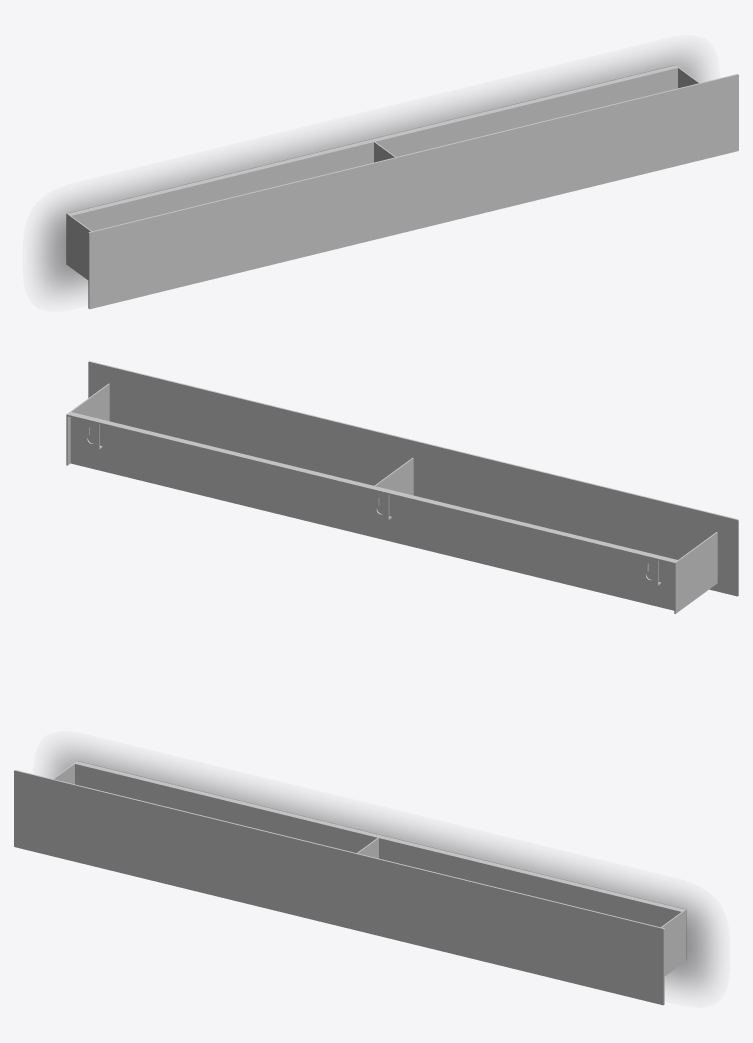
The model's file is skyline-mono.f64ac0eb6c.ar.glb.
3 views of the same model, one above another, from view 1: azimuth 30°, elevation 25°; view 2: azimuth 150°, elevation 25°; view 3: azimuth 330°, elevation 25° (orthographic).
Visible parts, largest first — view 1: NAUO1, object 2; view 2: NAUO1; view 3: NAUO1, object 2.
Part boxes in pixels (x1,y1,x2,y2): NAUO1: (66, 65, 738, 309); object 2: (38, 53, 703, 293); NAUO1: (66, 361, 738, 613); NAUO1: (14, 761, 686, 1005); object 2: (49, 749, 714, 989).
Size of the model in its own units: 0.88 by 0.17 by 0.092.
2 materials, 1 textured.
